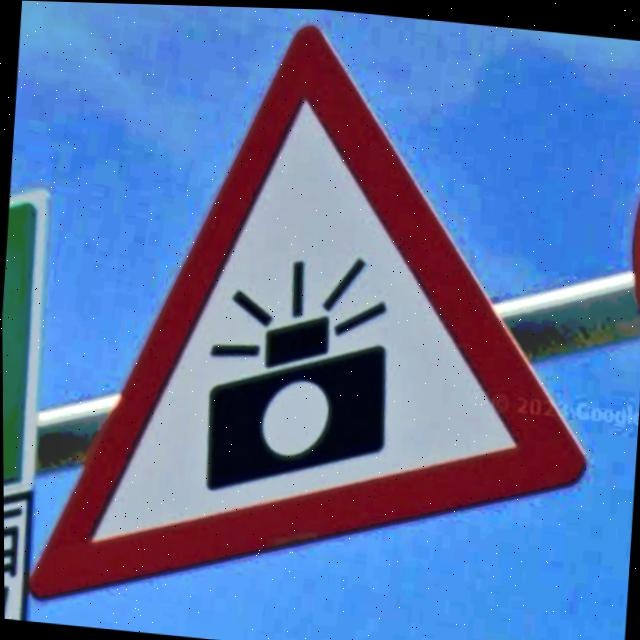speedcamera: (27, 22, 589, 603)
